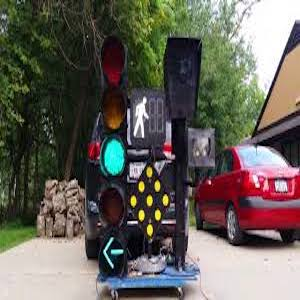green: (132, 97, 151, 141)
